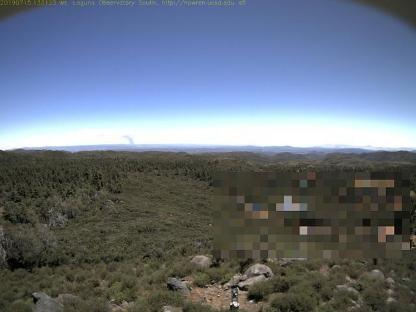smoke: (120, 132, 136, 148)
